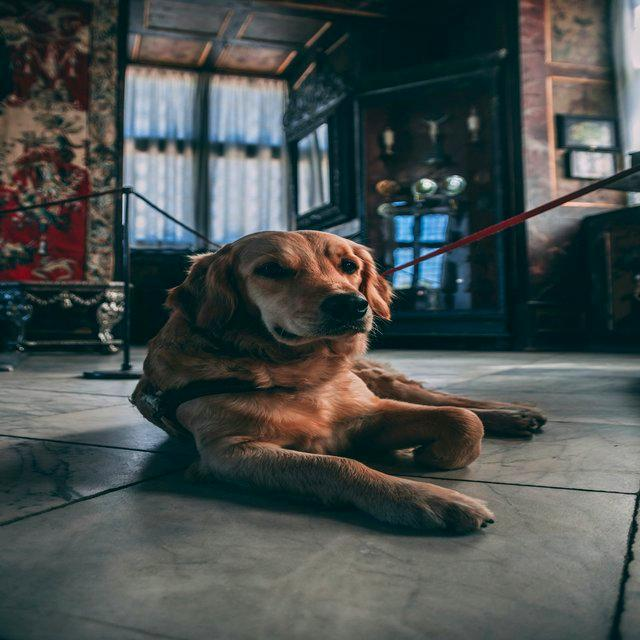retriever: (128, 227, 547, 535)
